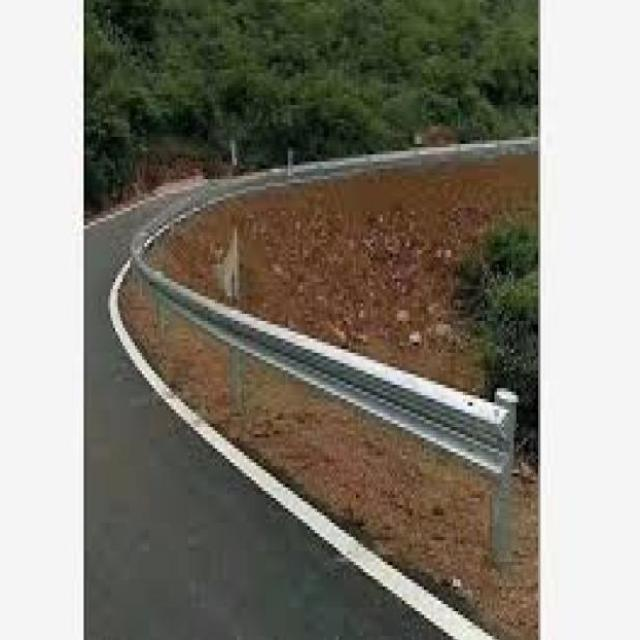Guard rail: (134, 213, 506, 475)
